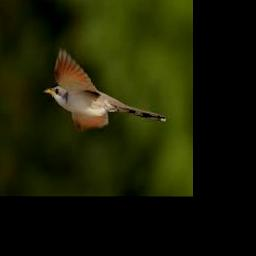Cuckoo: (43, 49, 166, 128)
